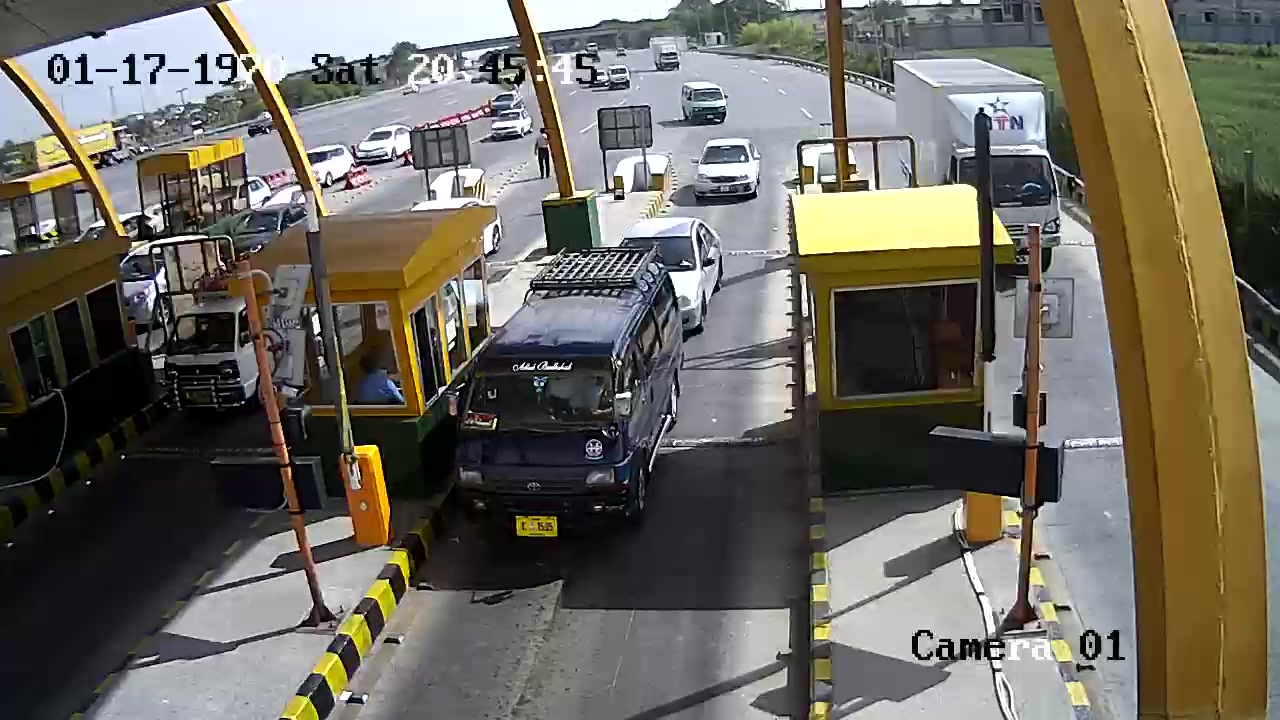F2: (452, 246, 687, 544)
